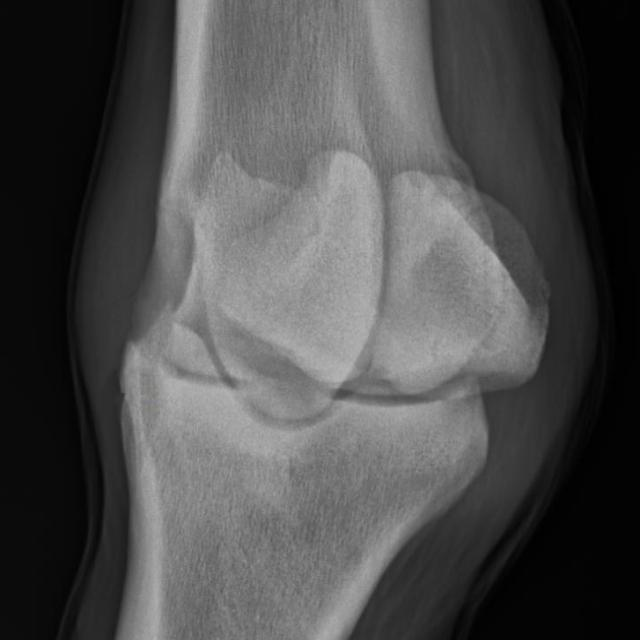bone remodeling: (63, 250, 260, 498)
